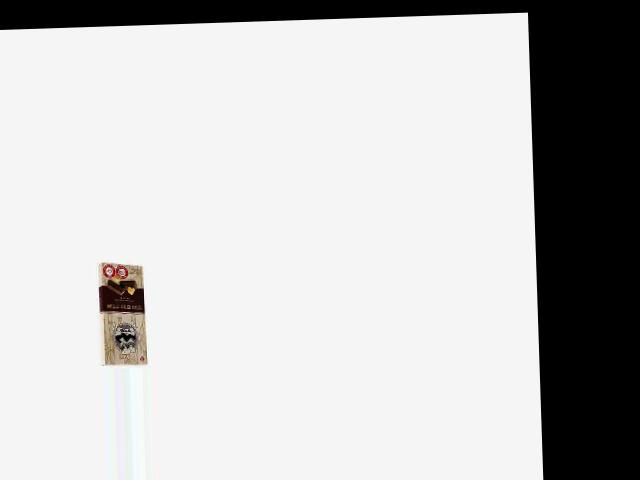chocolate: (89, 259, 149, 366)
